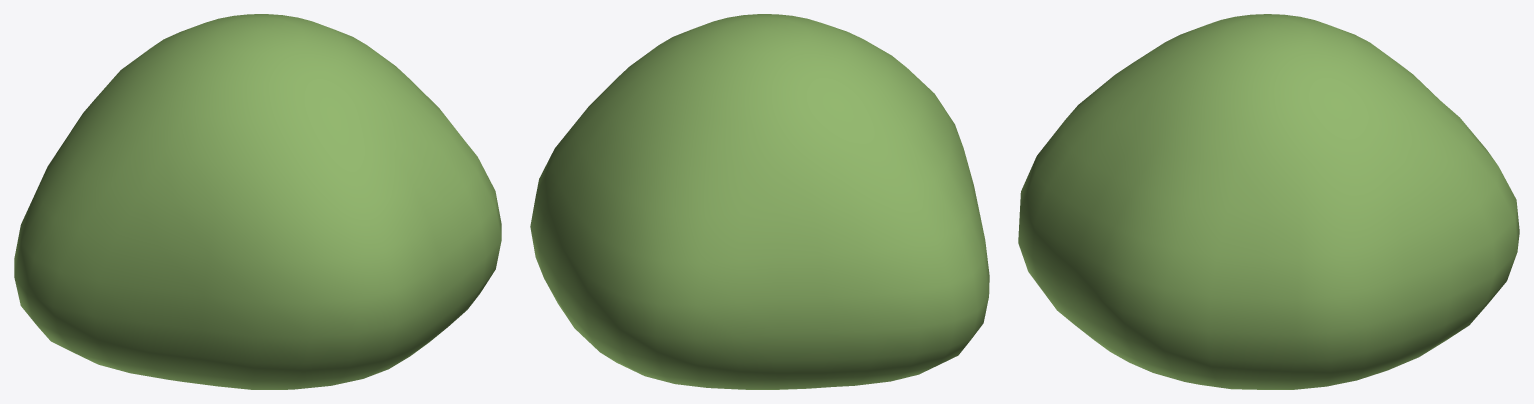
Rendered from slime.fbx.
The picture shows the model from 3 angles, left to right: view 1: azimuth 30°, elevation 25°; view 2: azimuth 150°, elevation 25°; view 3: azimuth 270°, elevation 25°; orthographic projection.
Parts seen in each view (by area): view 1: Sphere; view 2: Sphere; view 3: Sphere.
Part boxes in pixels (x1,y1,x2,y2): Sphere: (14,14,501,389); Sphere: (530,14,989,389); Sphere: (1018,14,1519,389).
Size of the model in its own units: 458 by 312 by 467.
